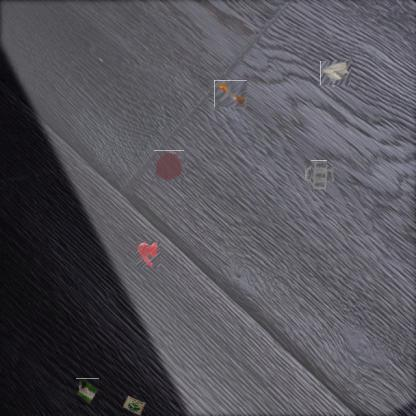dirty: (214, 80, 247, 107), (322, 60, 349, 87), (75, 378, 99, 405), (308, 163, 331, 186), (122, 394, 146, 416)
liquid: (154, 151, 185, 181), (136, 241, 160, 267)
